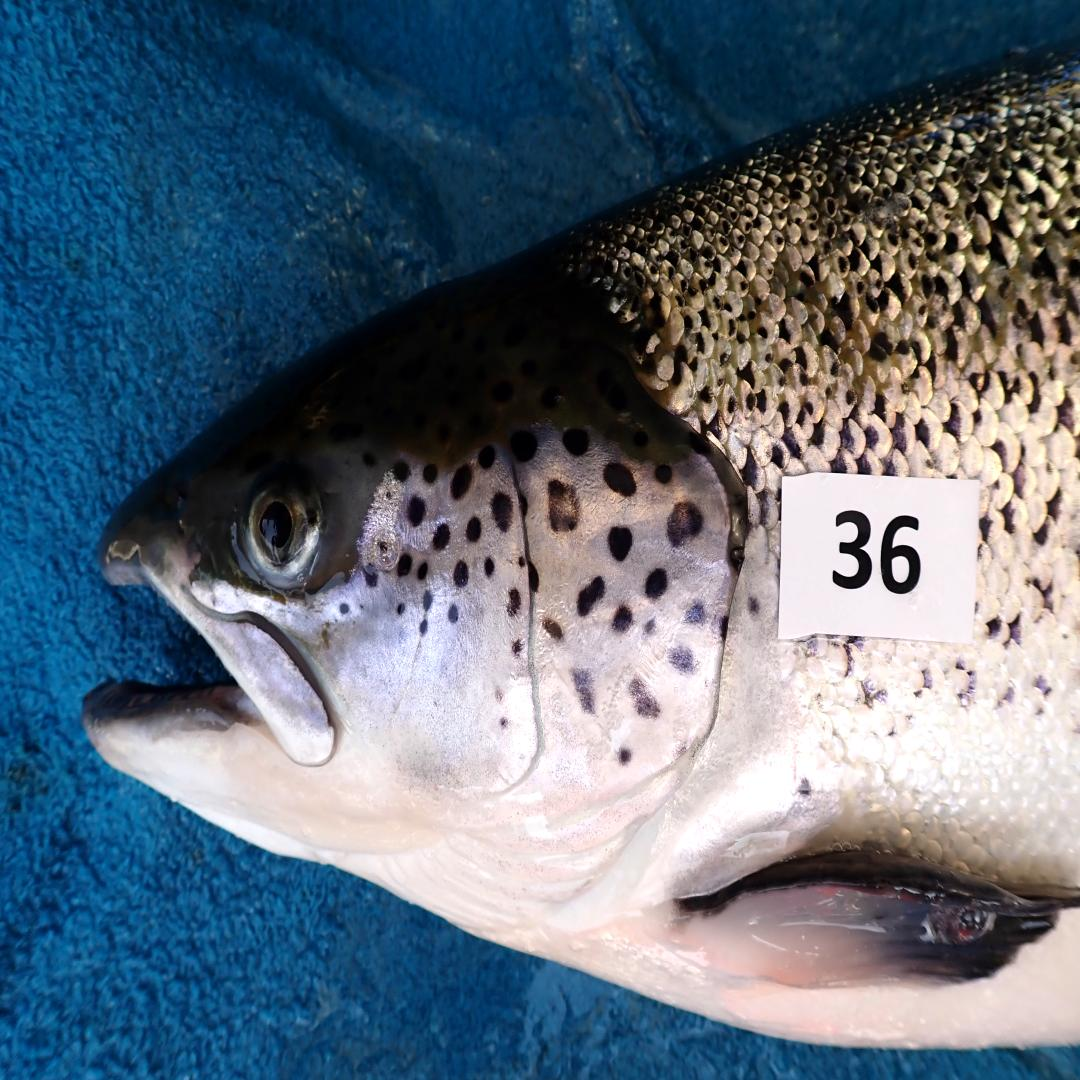roi: (336, 424, 740, 938)
